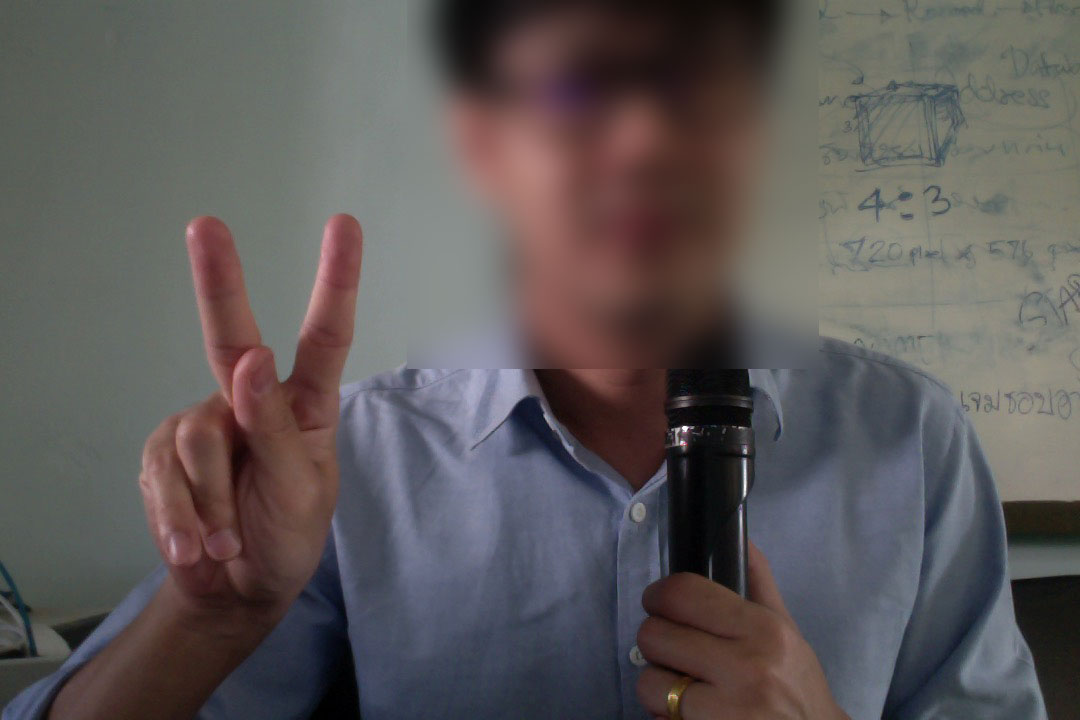ko: (131, 197, 371, 597)
